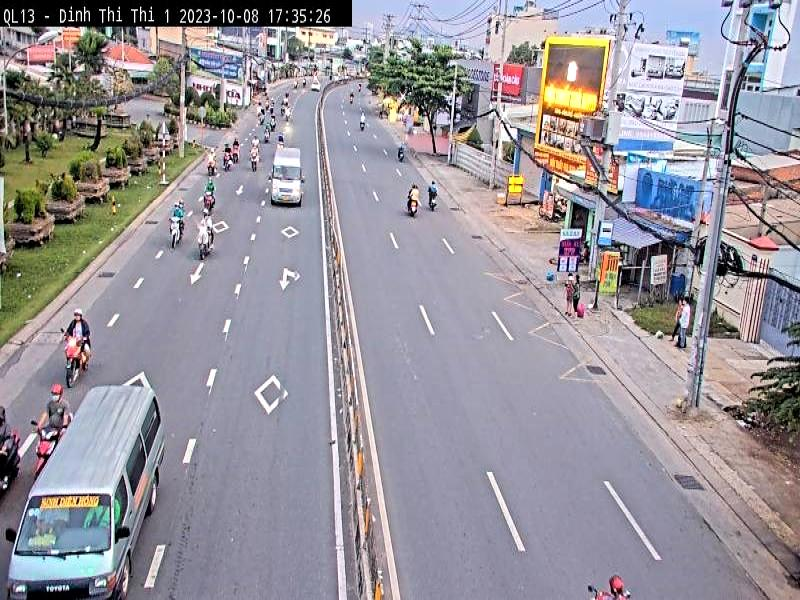car: (6, 385, 163, 600)
motorcycle: (29, 419, 58, 484), (62, 331, 87, 385)
